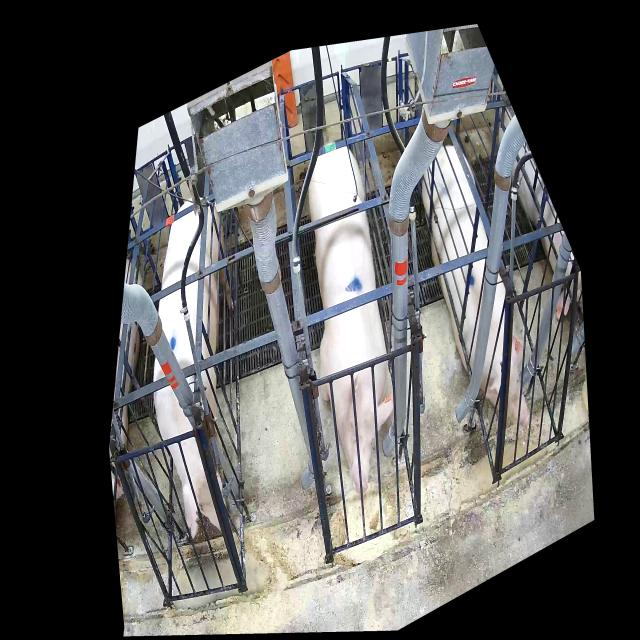pig: (422, 146, 533, 428), (309, 146, 394, 493), (153, 198, 235, 538)
